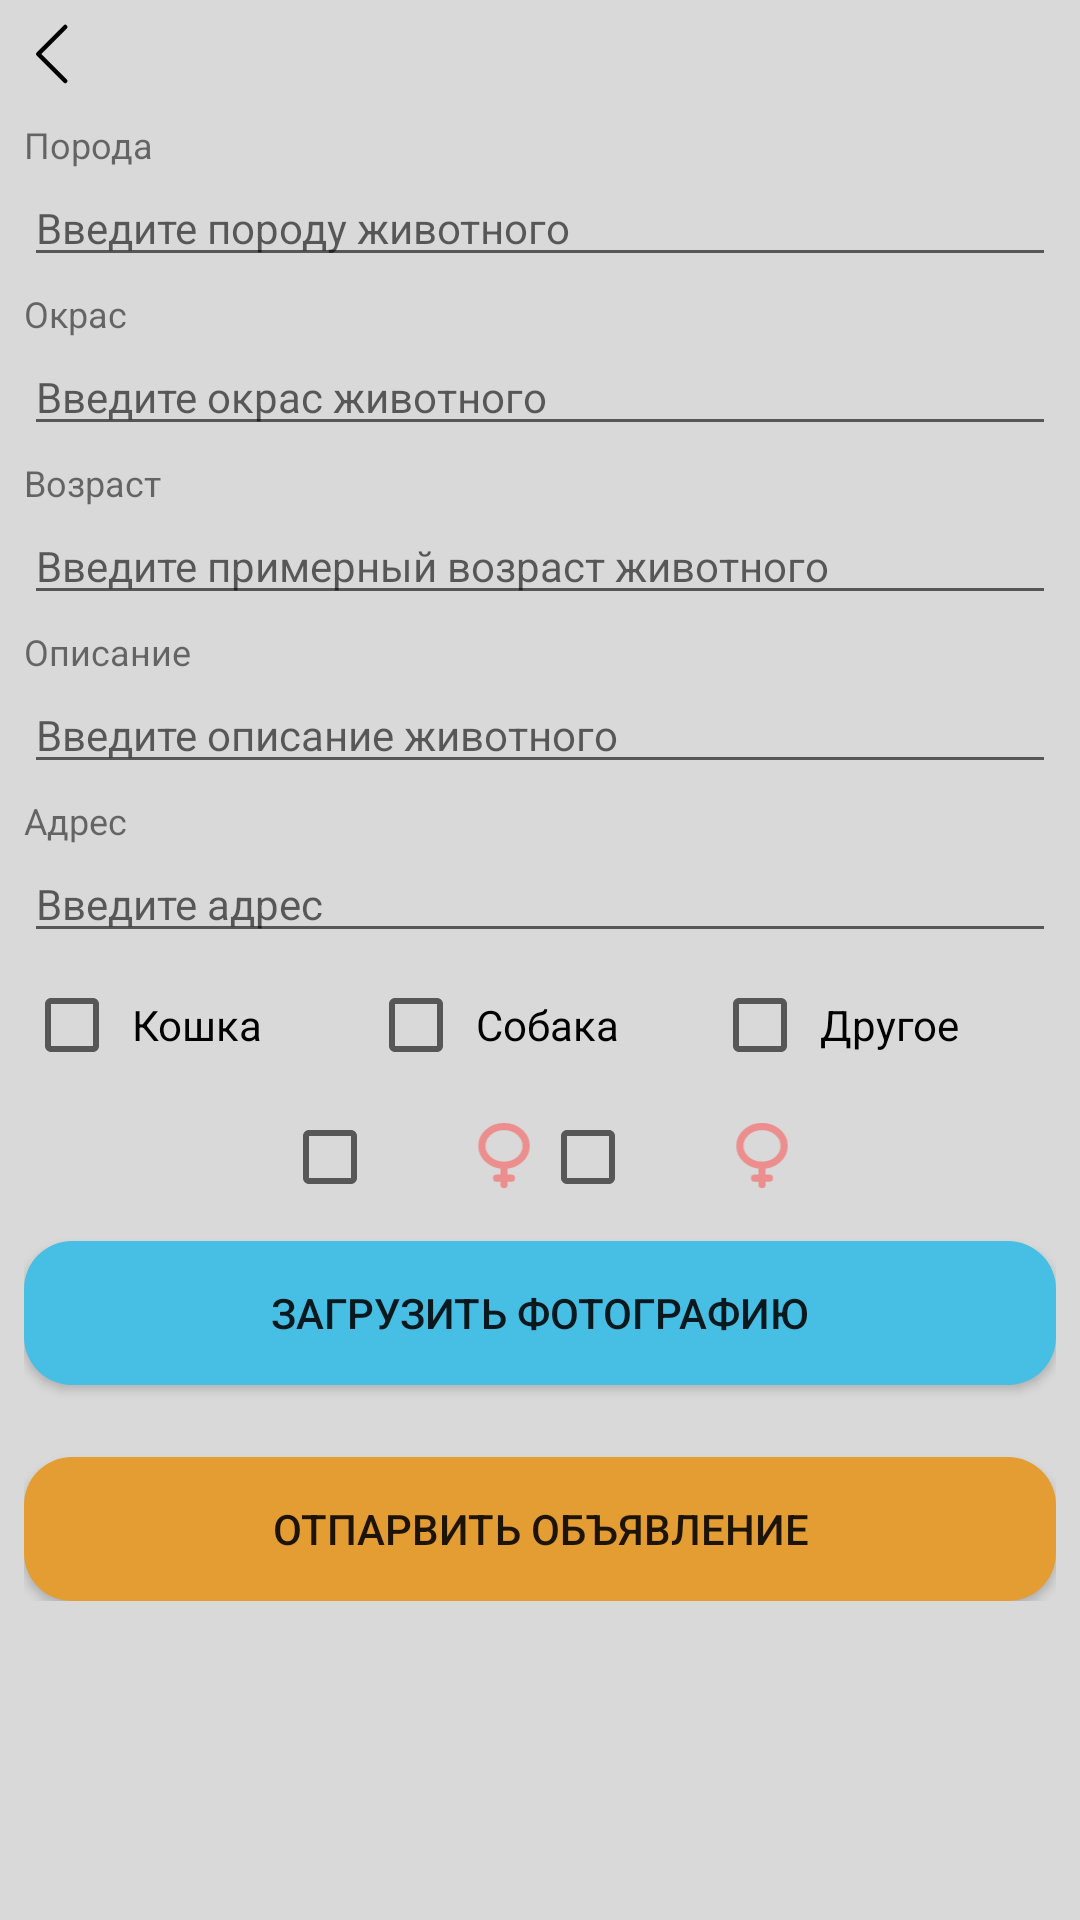

Where to tap for icons on this 1080w x 1920h app screen, as point (x, y):
back arrow: point (52, 54)
pol girl: point (504, 1155), point (762, 1155)
